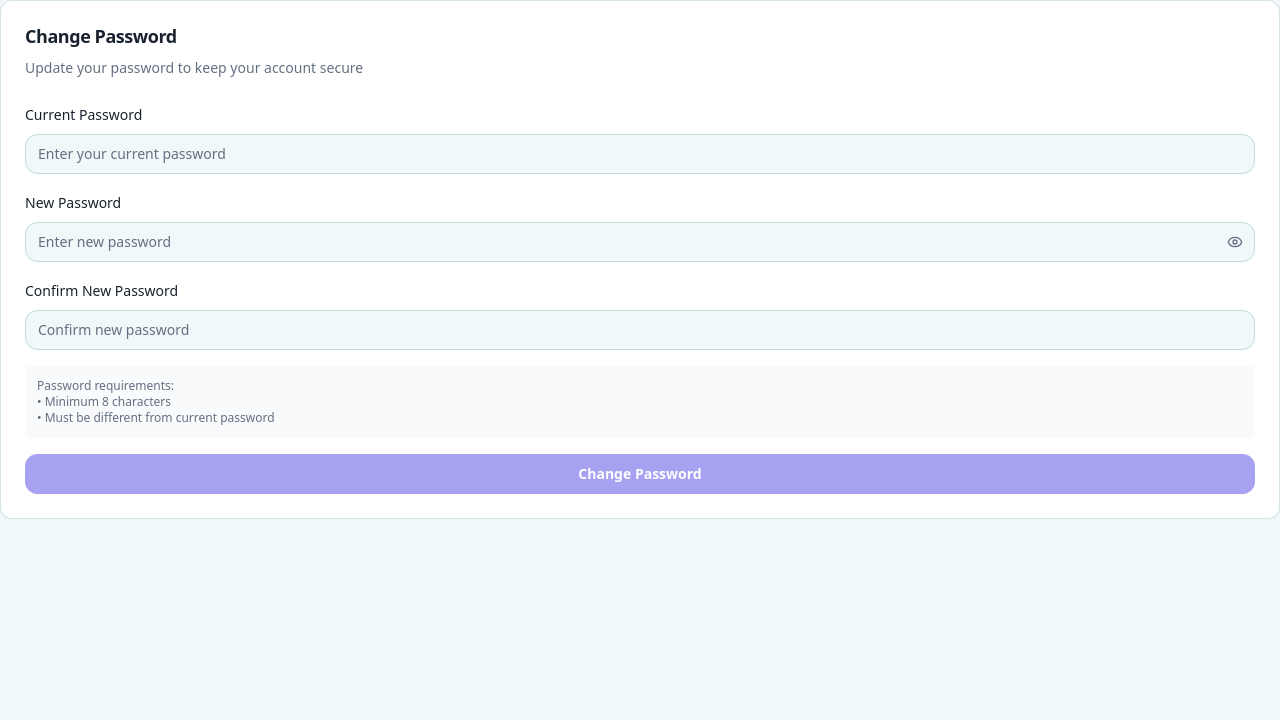
PasswordChangeForm › should show error when password is too short
Type "oldpass123" into the password field labelled "Current Password" at [640, 154], box [25,134,1255,174]
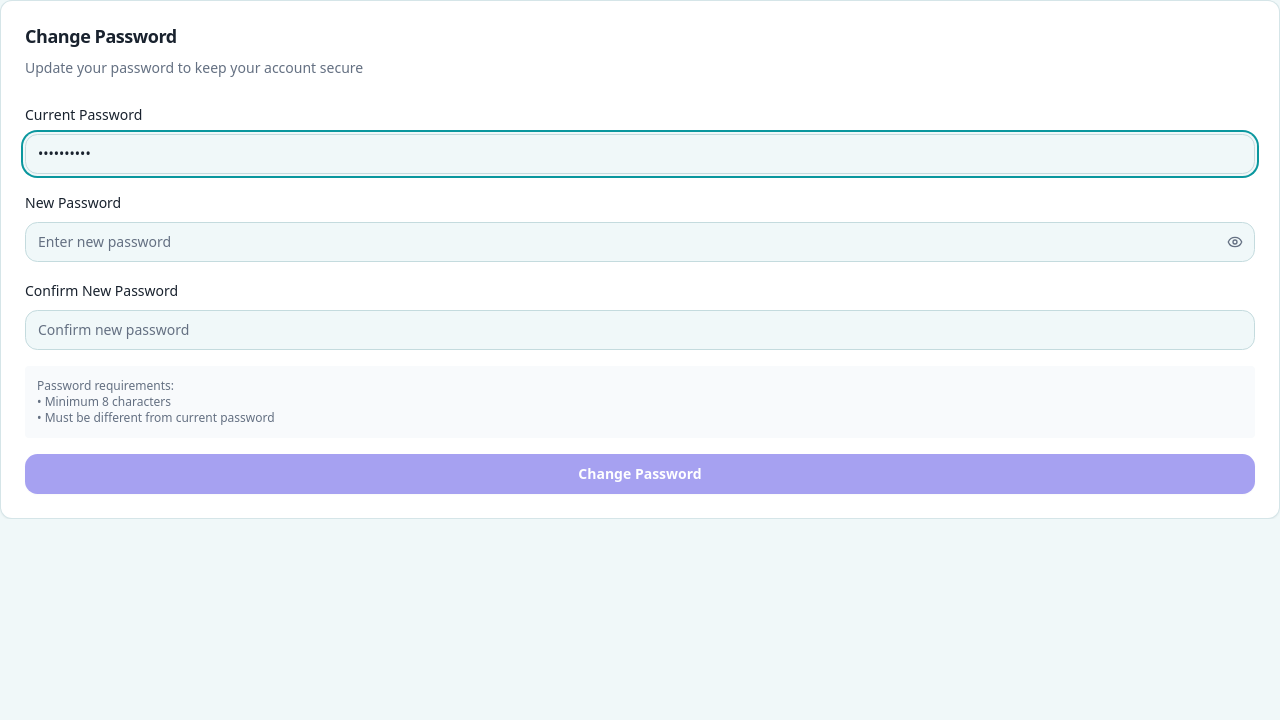
Type "short" into the password field labelled "New Password" at [640, 242], box [25,222,1255,262]
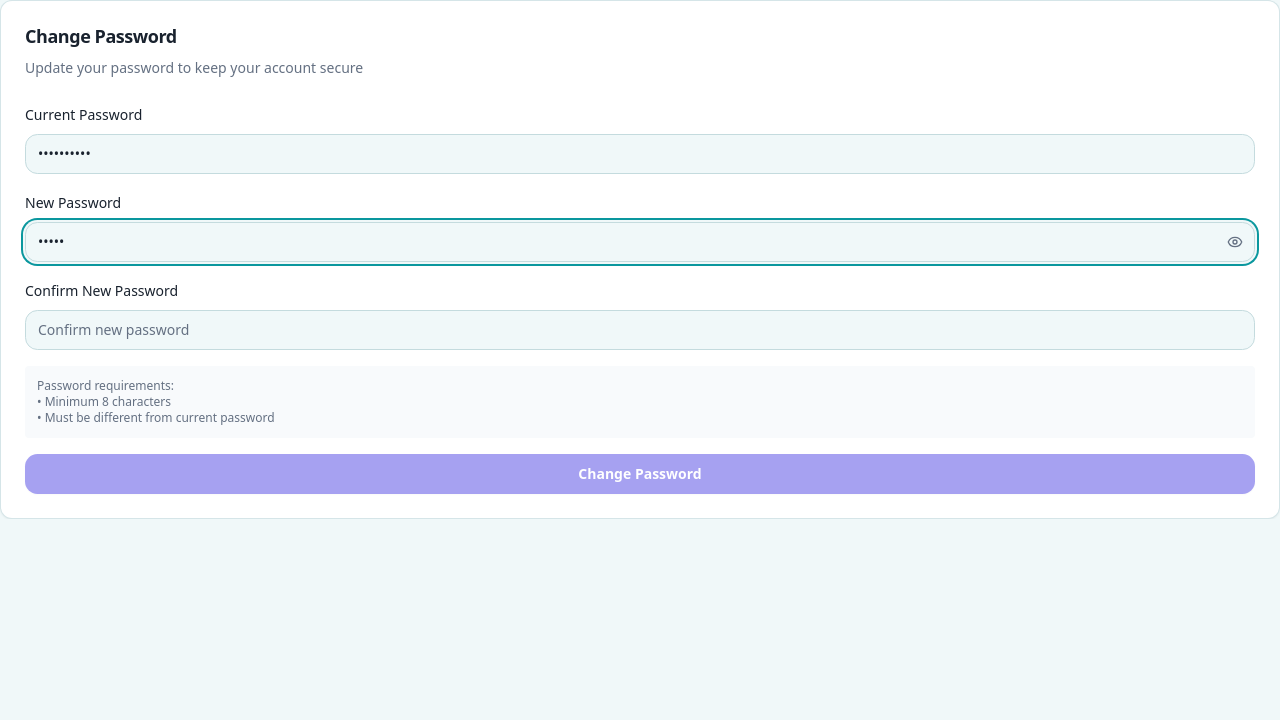
Type "short" into the password field labelled "Confirm New Password" at [640, 330], box [25,310,1255,350]
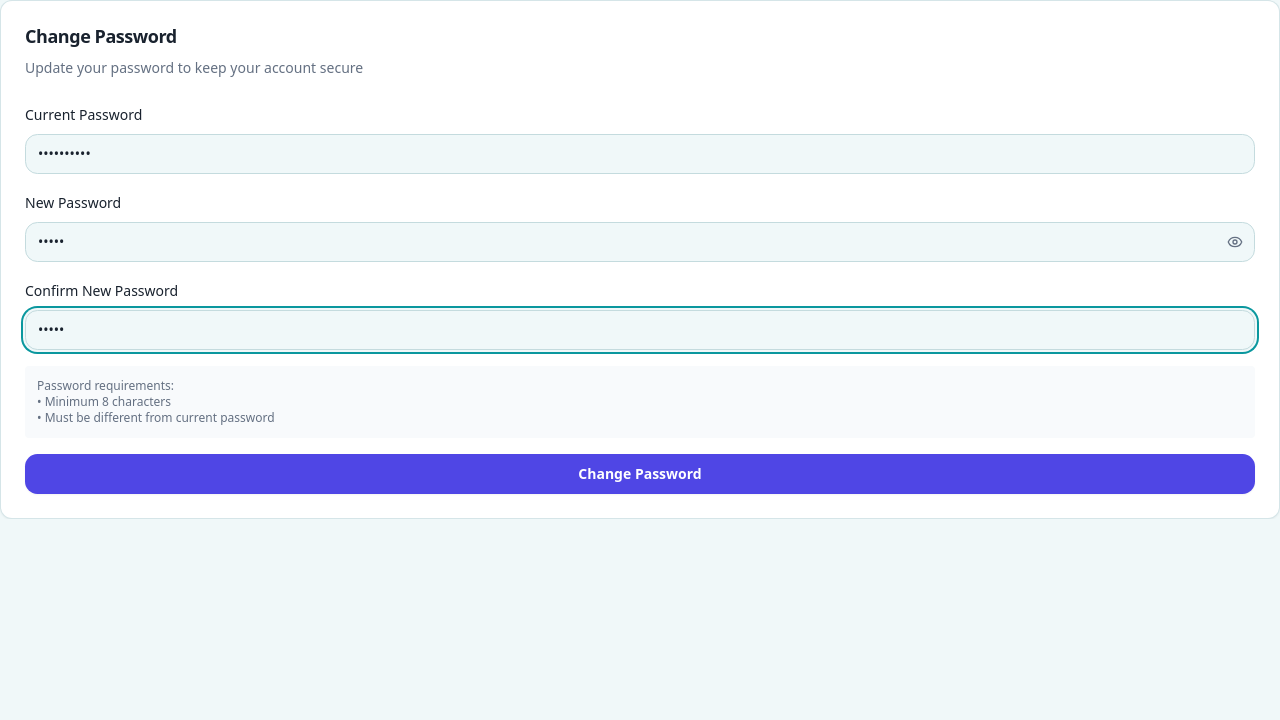
Click the button "Change Password" at [640, 474], box [25,454,1255,494]
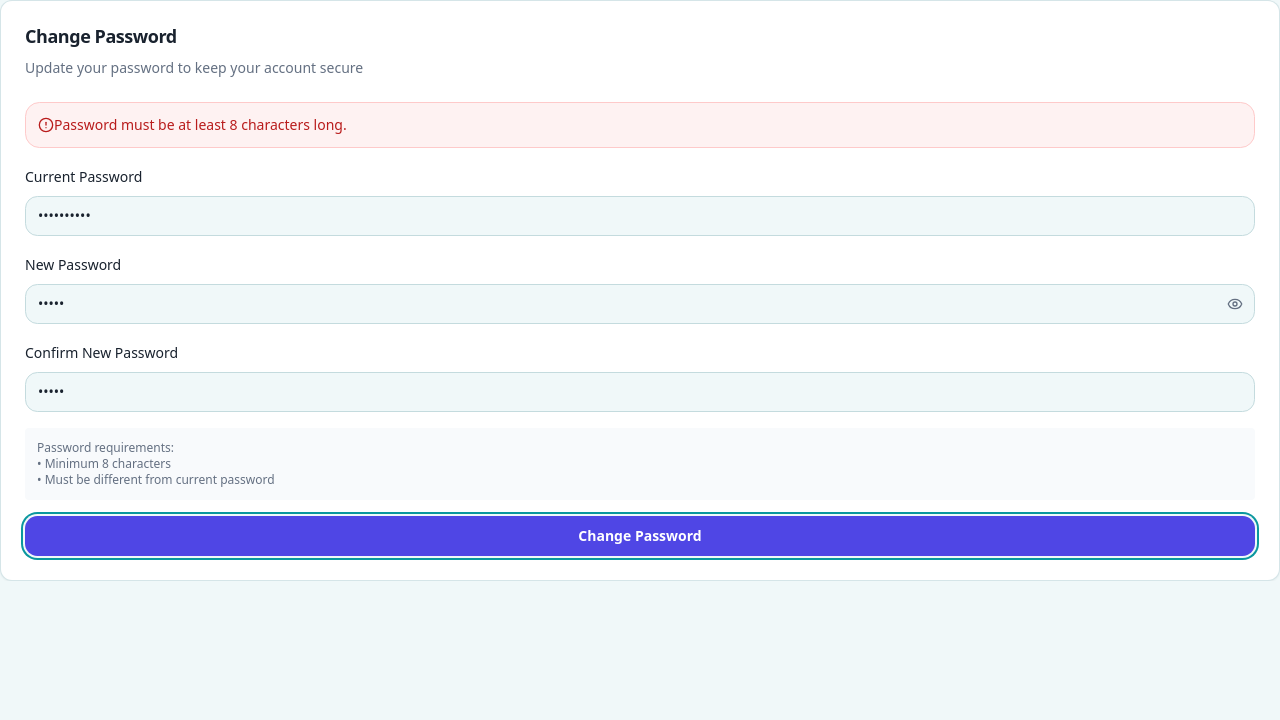
Check: the text "Password must be at least 8 characters long." is shown, box [54,114,347,134]
